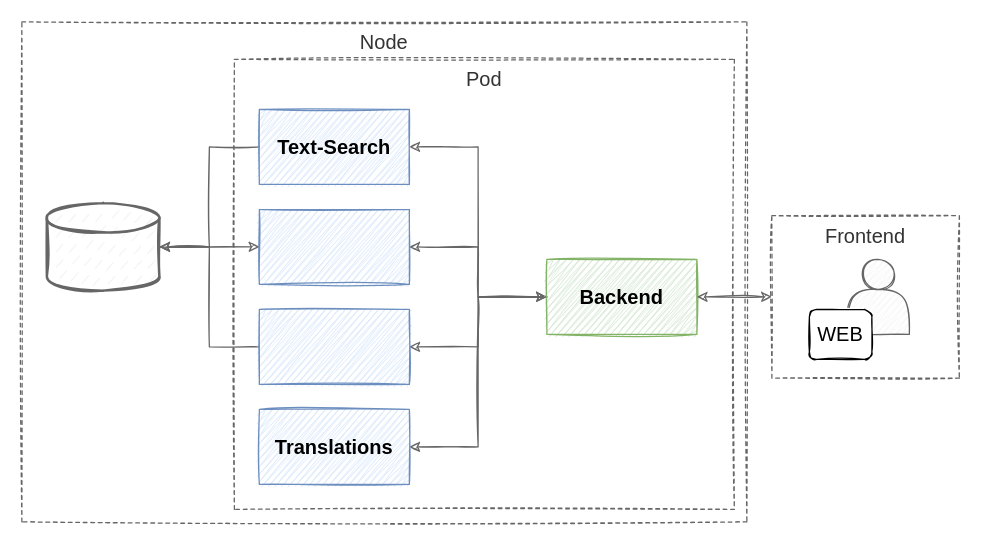
This 981x544 diagram has some shape labels left out. The shapes that lost their labels are listed below. From the top down, each one's centre as x and y in pixels, then its label:
point 102,246: files
point 333,246: Odt-Search
point 333,346: Pdf-Search
